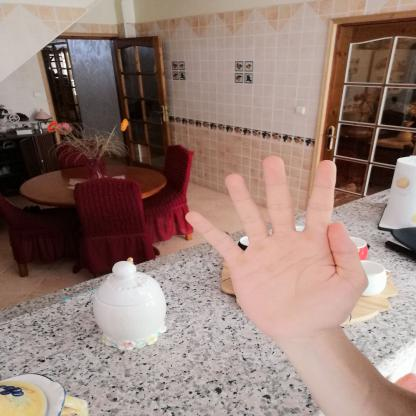SHEEN: (174, 146, 374, 351)
